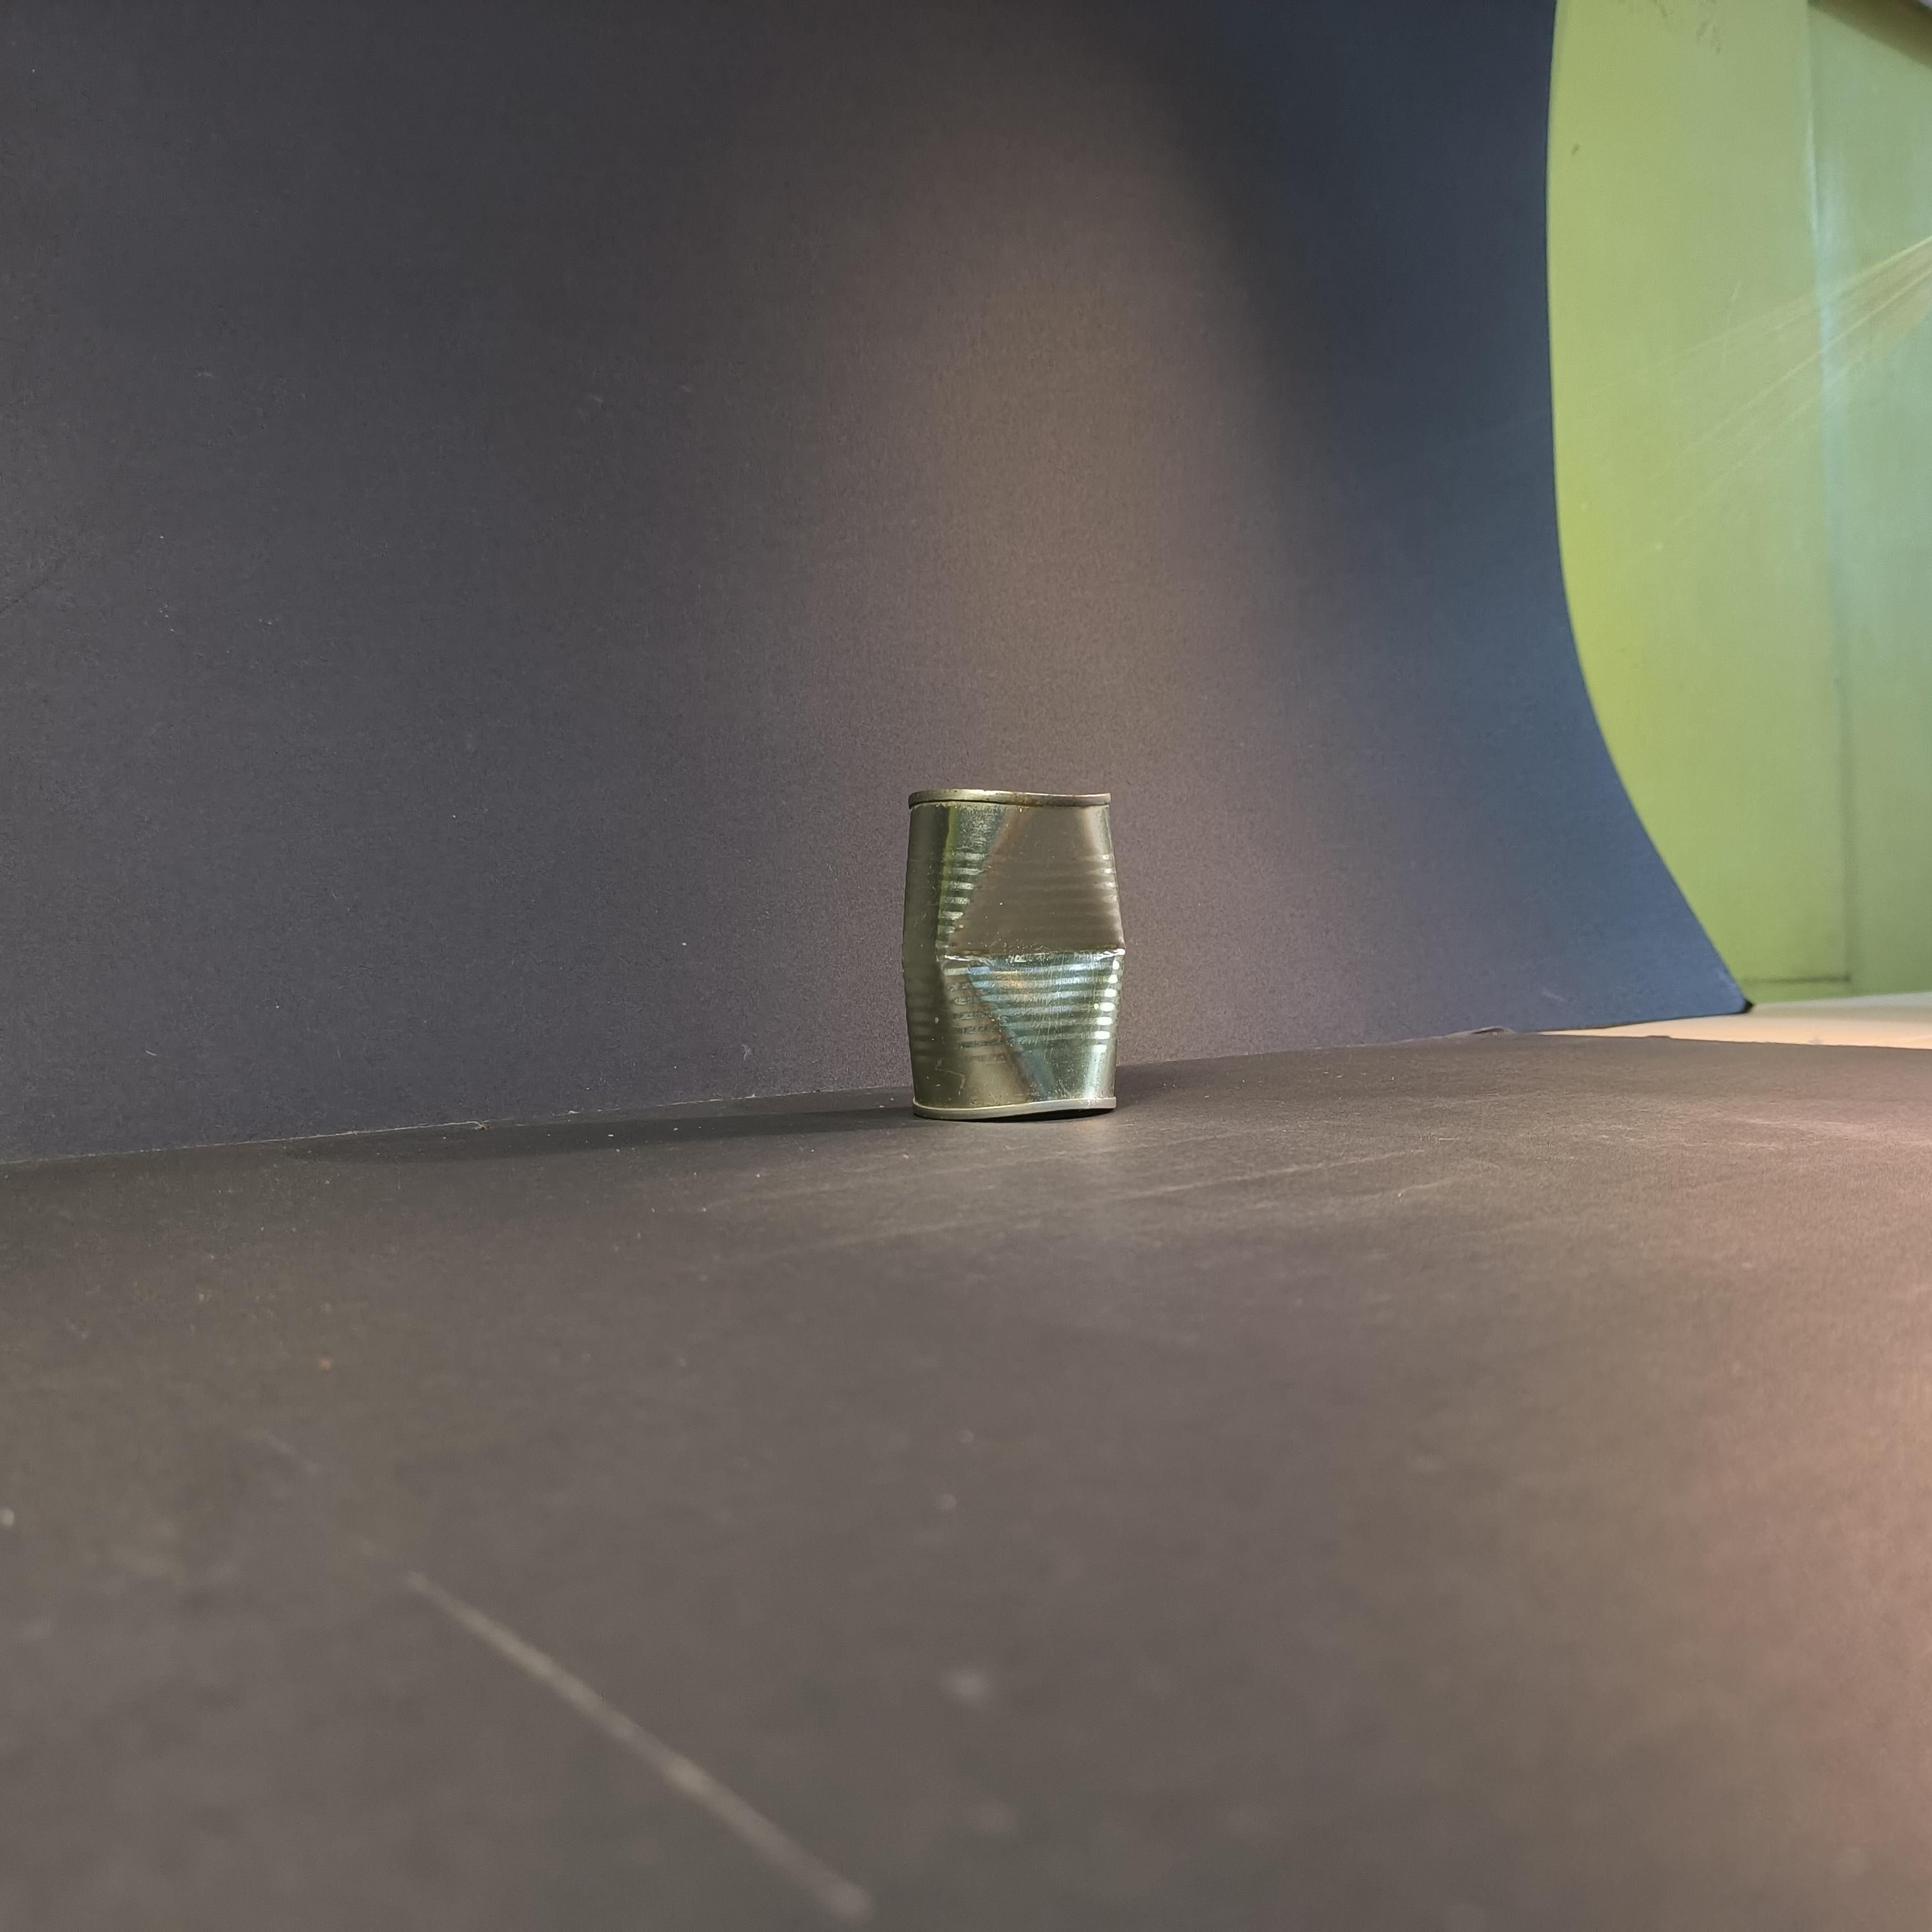Dented: (868, 771, 1146, 1135)
